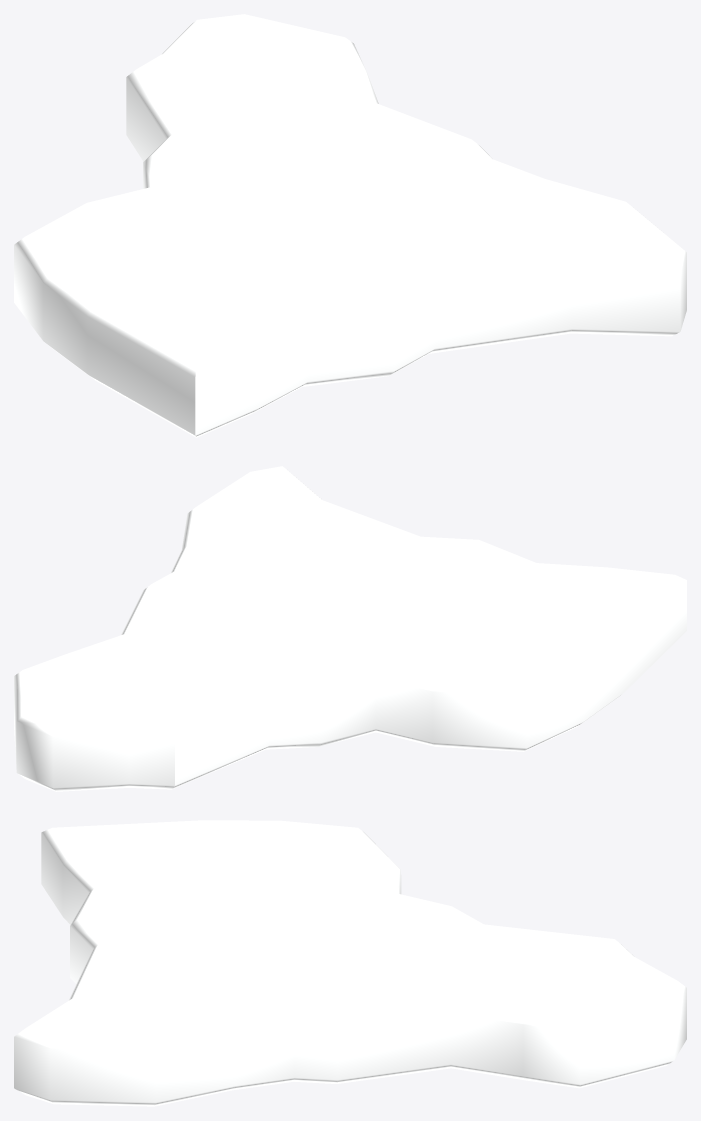
Rendered from ice_floe_medium_007.glb.
3 renders of one model, top to bottom at view 1: azimuth 30°, elevation 25°; view 2: azimuth 150°, elevation 25°; view 3: azimuth 270°, elevation 25°, orthographic. The views are drawn at different scales.
Visible parts, largest first — view 1: ice_floe_medium_007; view 2: ice_floe_medium_007; view 3: ice_floe_medium_007.
Boxes of the visible parts, left/top/right/bottom form: ice_floe_medium_007: left=14, top=14, right=686, bottom=437; ice_floe_medium_007: left=14, top=466, right=686, bottom=791; ice_floe_medium_007: left=14, top=820, right=686, bottom=1106.
Bounding box in the file's own units: 6.46 × 0.8944 × 8.11.
1 material, 1 textured.
